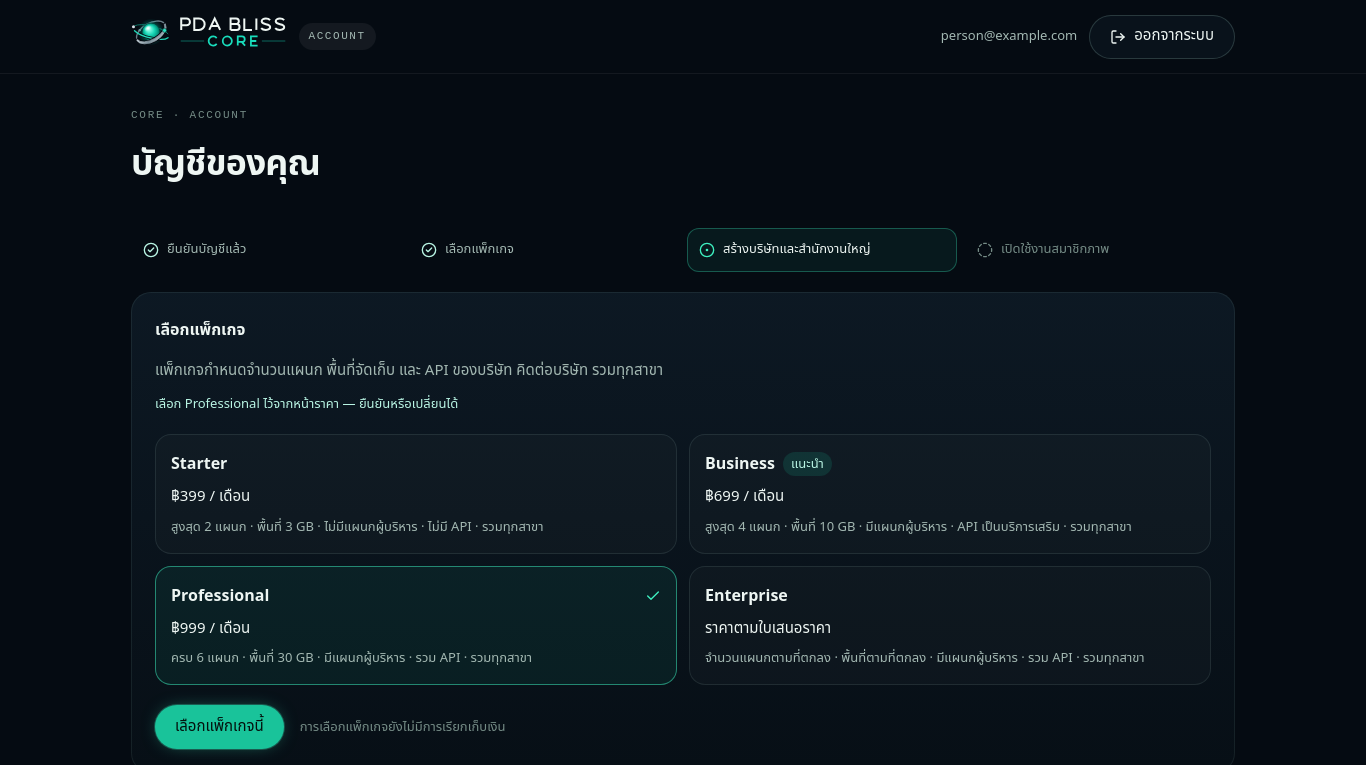
Test: package selection › offers a pricing-page plan once when it differs from the saved one
Expected: the radio button labelled "Professional" is checked, [155, 566, 677, 685]
// Keeping the saved plan is a choice too: the form follows, no loop back.
Click the radio button labelled "Business": point(740, 464) [689, 434, 1211, 554]
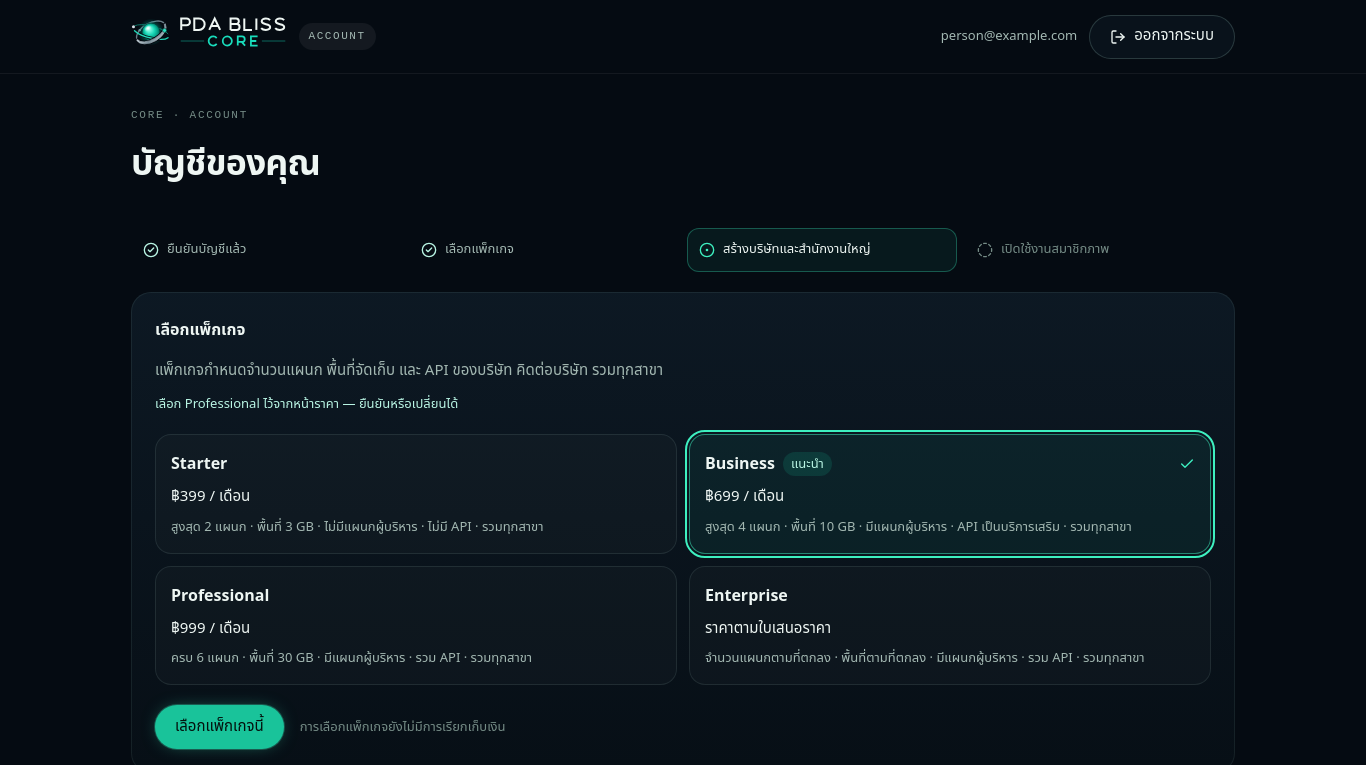
Click the button "เลือกแพ็กเกจนี้": point(219, 727) [155, 705, 284, 749]
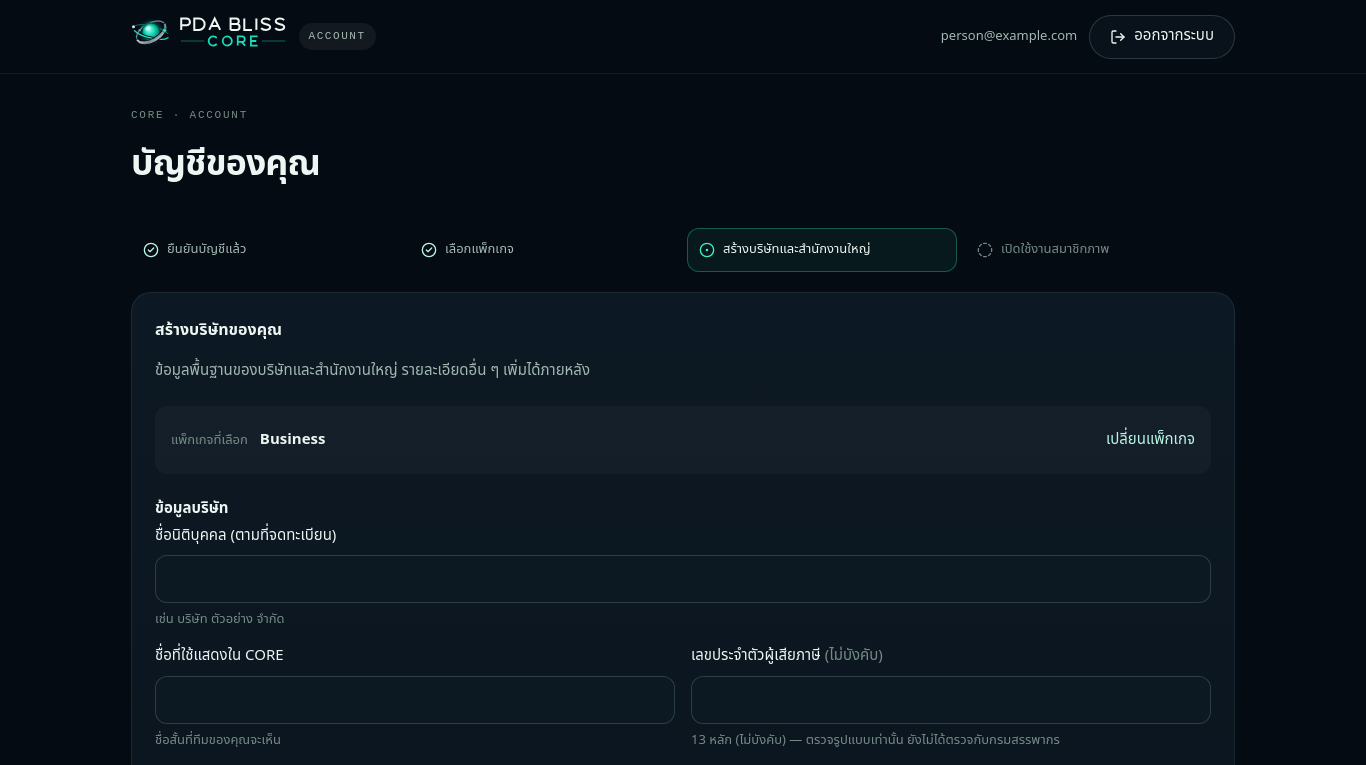
Result: the heading "สร้างบริษัทของคุณ" is shown at [155, 316, 282, 344]
